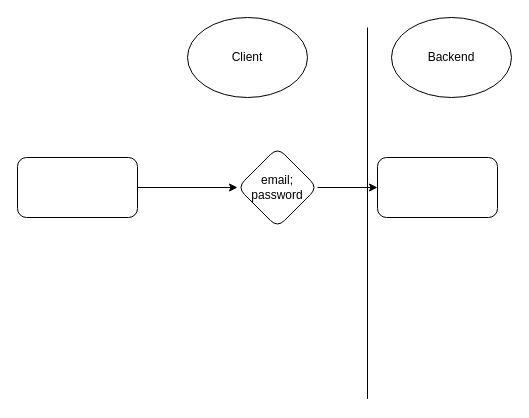
The diagram is 529 pixels wide and 418 high, and some of its shapes have lost their labels. Here are the shapes that lost their labels. From the top down, the centre of each, then its label:
point 77,187: Request
point 437,187: Handler
